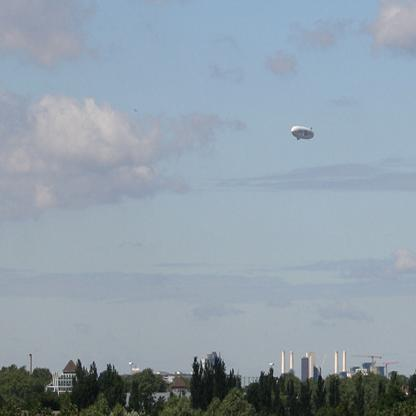Airship: (289, 123, 317, 146)
